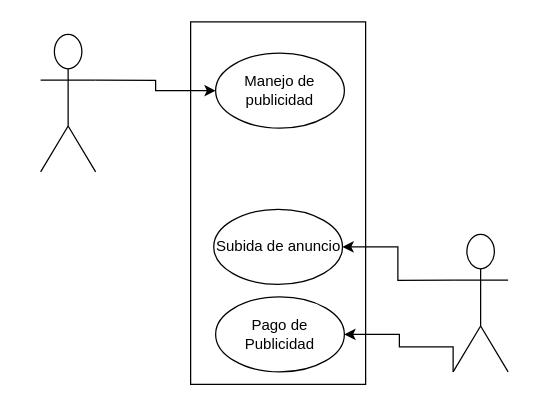
Some shapes in this 539 by 420 pixel diagram are drawn without their labels. The shapes that lost their labels are listed below. From the top down, each one's centre as x and y in pixels, then its label:
the point at 67,102: Administrador
the point at 480,302: Anunciante
